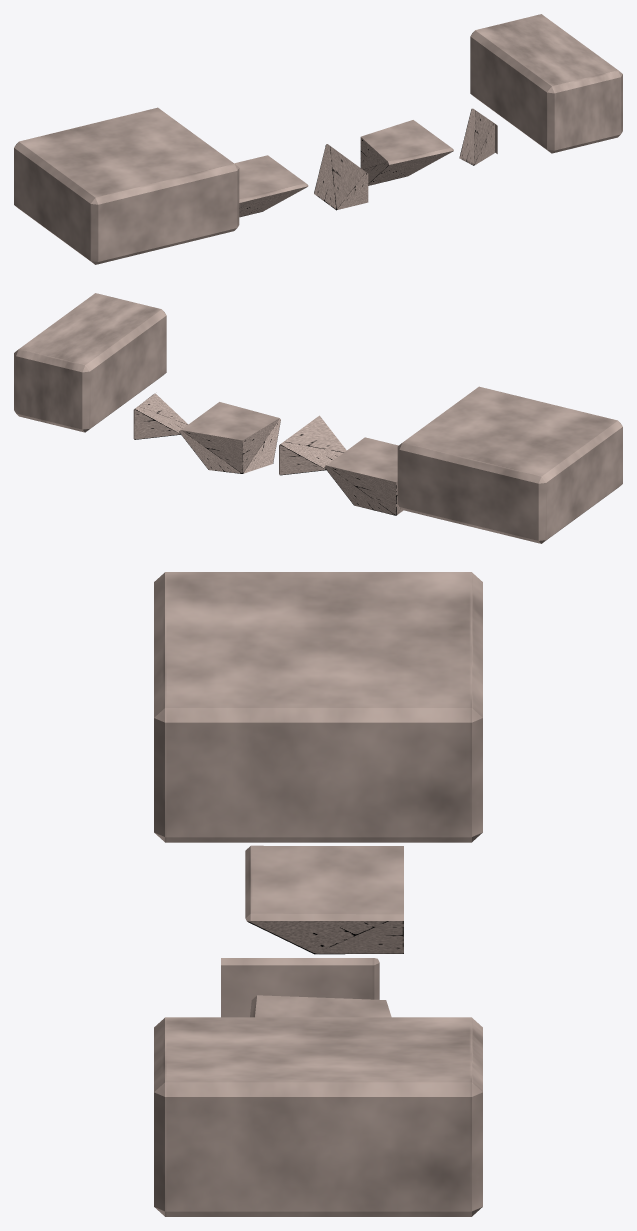
Rendered from bricks.fbx.
3 renders of one model, top to bottom at view 1: azimuth 30°, elevation 25°; view 2: azimuth 150°, elevation 25°; view 3: azimuth 270°, elevation 25°, orthographic. The views are drawn at different scales.
Parts seen in each view (by area): view 1: Brick, Brick.001, Brick.001_cell.001, Brick.001_cell.008, Brick.001_cell.011, Brick.001_cell.002; view 2: Brick, Brick.001, Brick.001_cell.001, Brick.001_cell.008, Brick.001_cell.011, Brick.001_cell.002; view 3: Brick, Brick.001, Brick.001_cell.008, Brick.001_cell.011, Brick.001_cell.001.
Boxes of the visible parts, x1,y1,x2,y2 form: Brick: [14, 107, 239, 264]; Brick.001: [470, 14, 622, 153]; Brick.001_cell.001: [360, 120, 453, 185]; Brick.001_cell.008: [234, 155, 308, 217]; Brick.001_cell.011: [314, 144, 368, 210]; Brick.001_cell.002: [459, 108, 497, 165]; Brick: [397, 386, 622, 543]; Brick.001: [14, 293, 166, 432]; Brick.001_cell.001: [179, 402, 280, 473]; Brick.001_cell.008: [324, 437, 403, 515]; Brick.001_cell.011: [279, 415, 346, 475]; Brick.001_cell.002: [133, 393, 188, 439]; Brick: [154, 572, 482, 842]; Brick.001: [154, 1017, 482, 1216]; Brick.001_cell.008: [245, 845, 403, 954]; Brick.001_cell.011: [221, 958, 379, 1017]; Brick.001_cell.001: [250, 995, 391, 1017].
Bounding box in the file's own units: 805 × 132 × 215.
